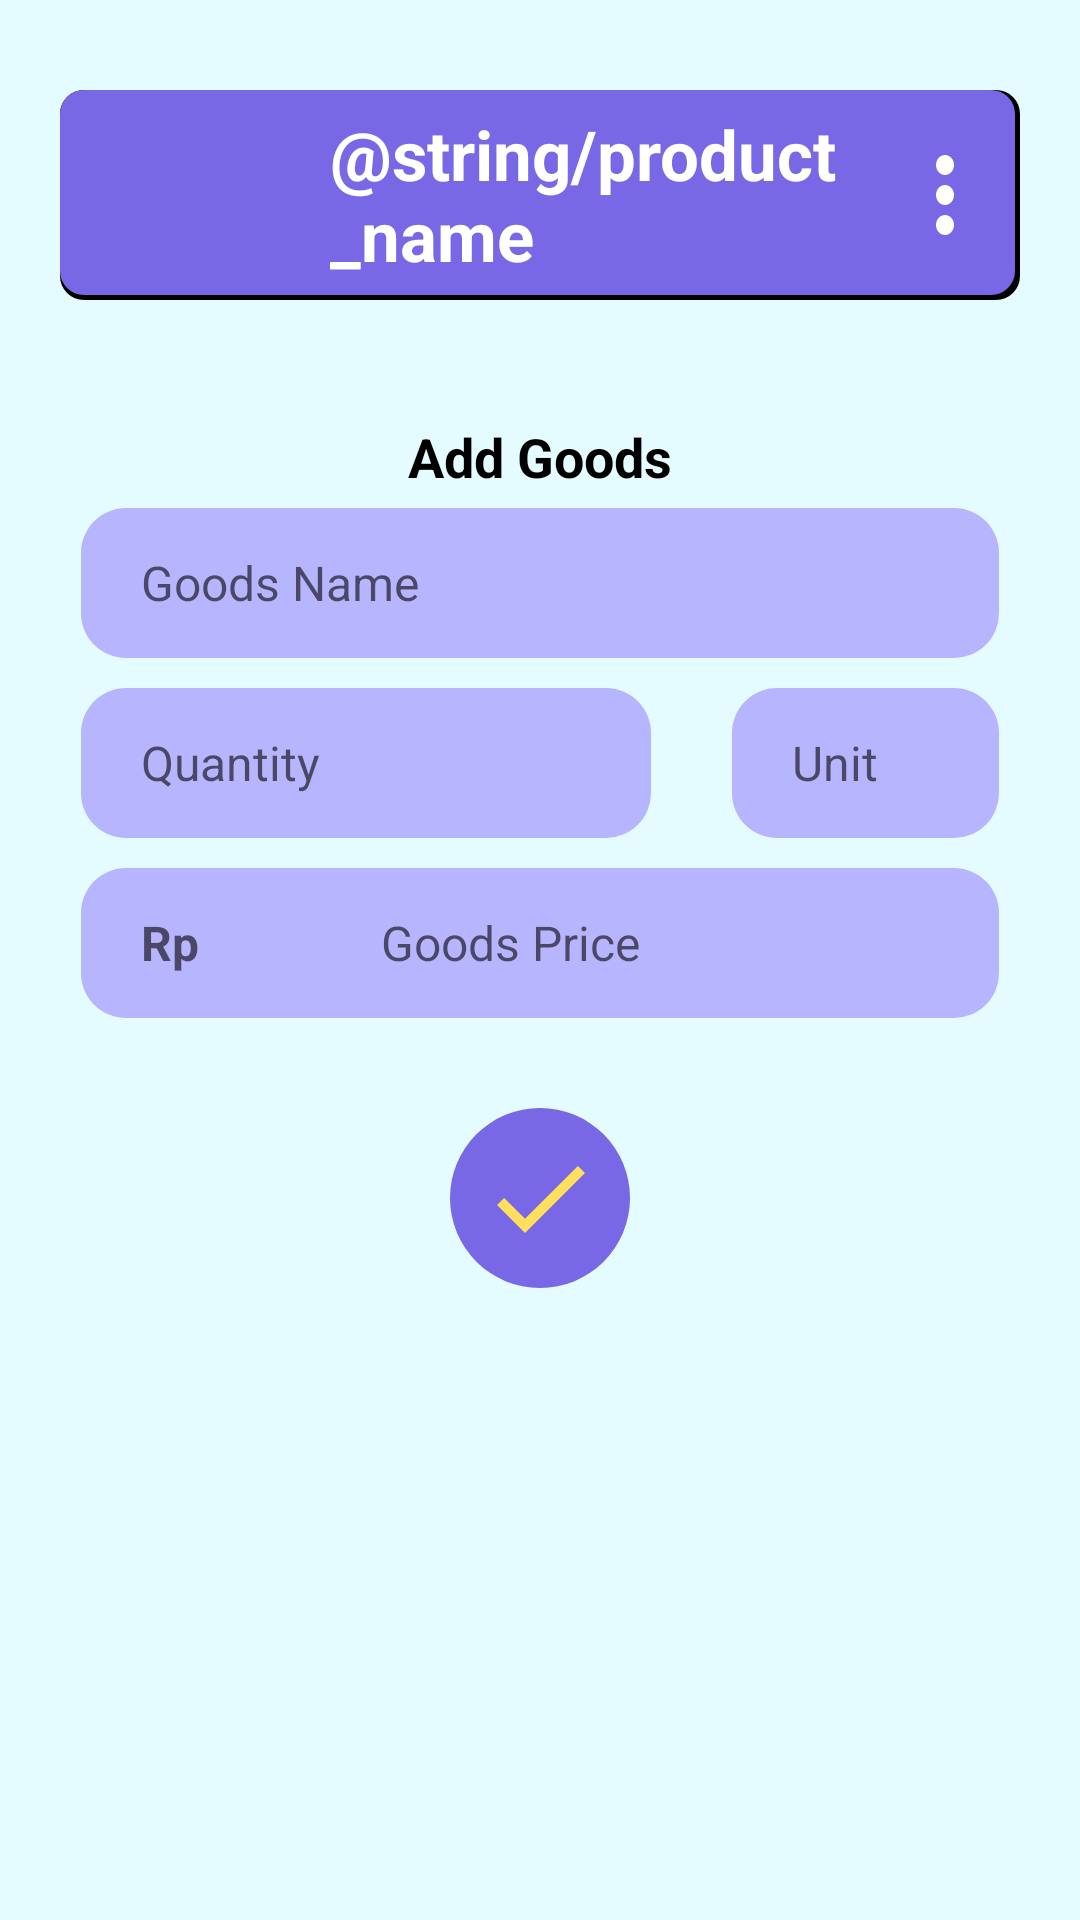

Icons on this 1080×1920 Android screen, each with its box as (x1, y1, x2, y2):
check: (450, 1108, 630, 1288)
menu: (936, 155, 954, 235)
